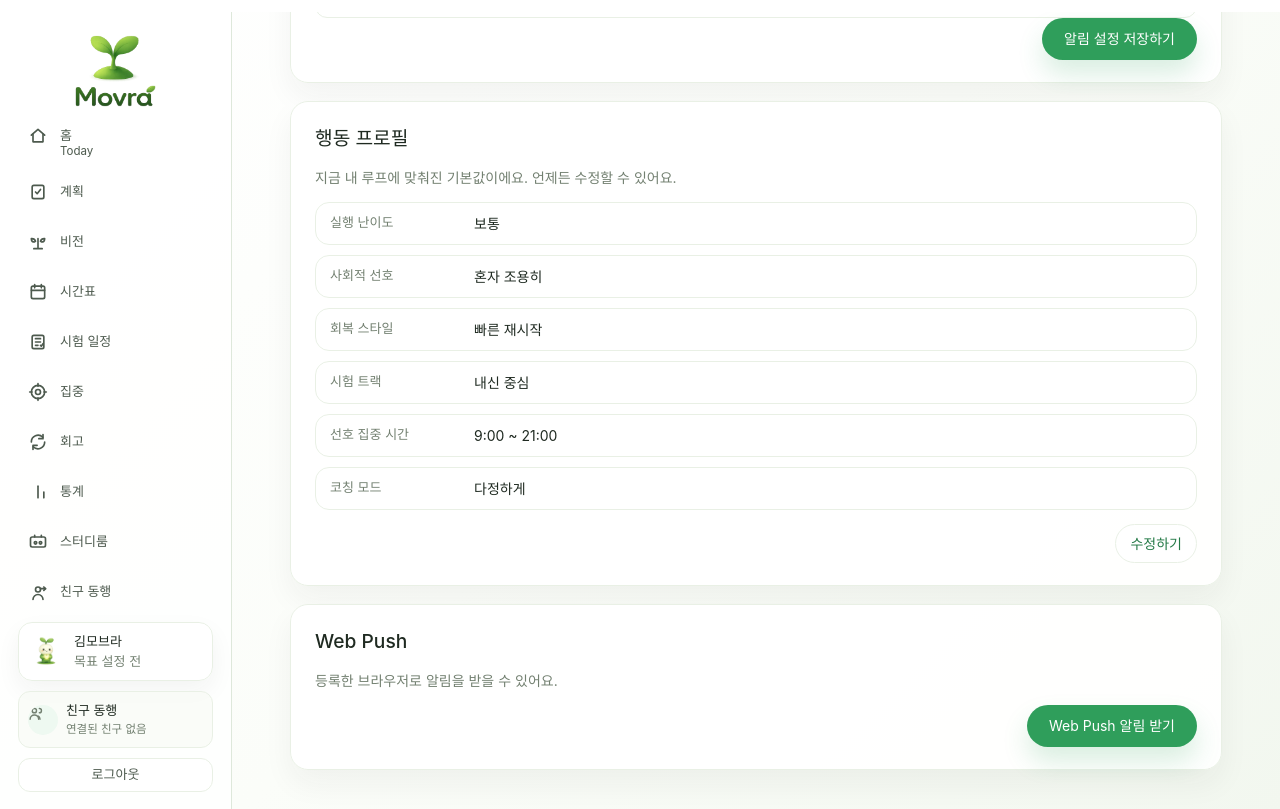
SettingsPage web push section › surfaces an error when VAPID GET fails
(page scrolled)
Click the button "Web Push 알림 받기": click(1112, 726) top-left (1027, 704), bottom-right (1197, 746)
(page scrolled)
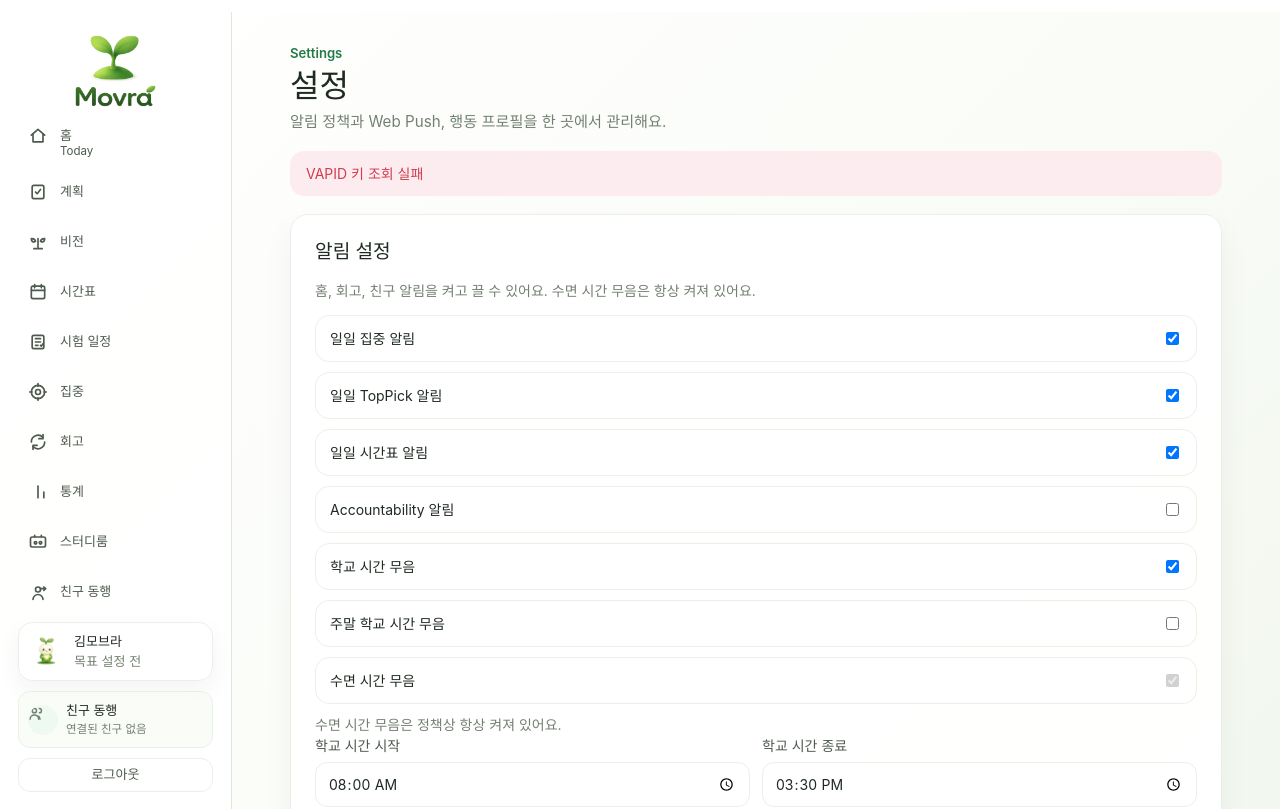
expect the text "VAPID 키 조회 실패" is shown: met, box top-left (290, 151), bottom-right (1222, 196)
